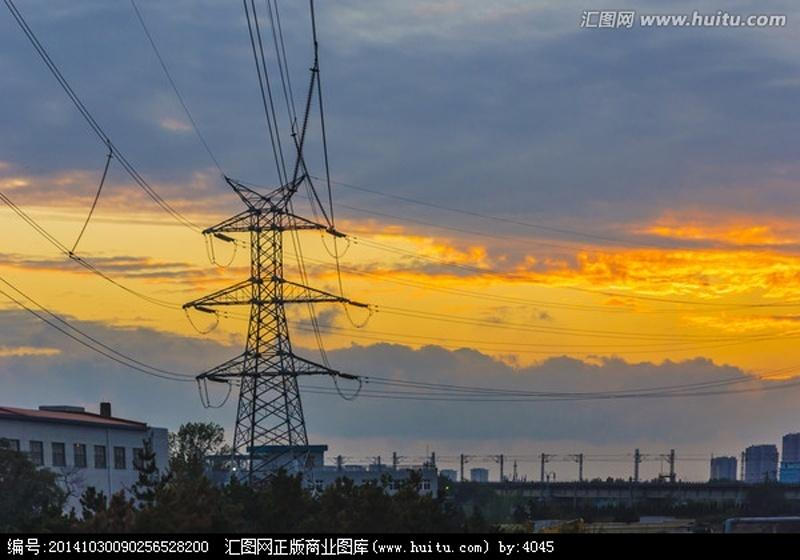power_tower: (200, 166, 377, 468)
